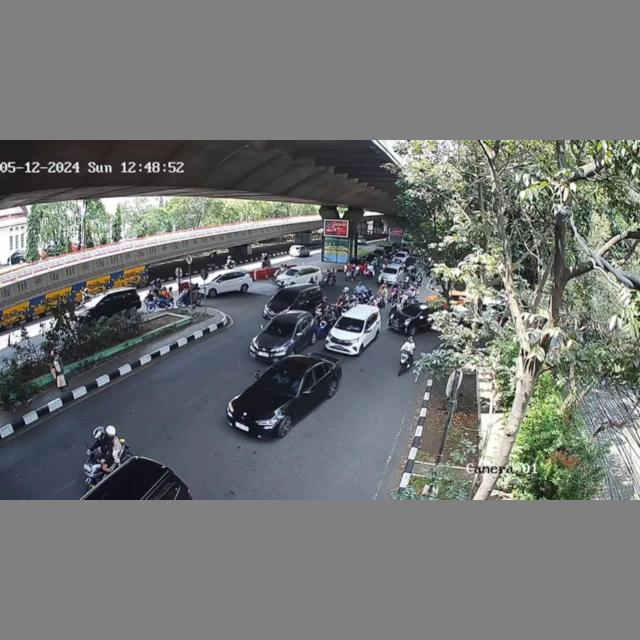windshield: (258, 366, 304, 398), (263, 318, 299, 336), (335, 315, 367, 333)
